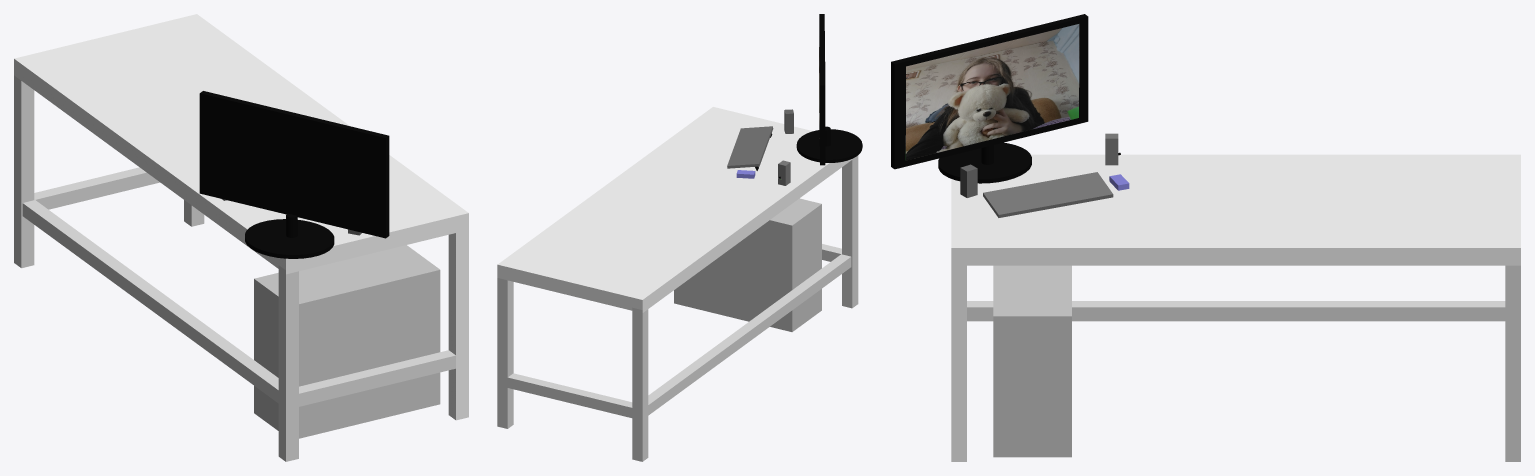
File: workplace.fbx
3 views of the same model, side by side, from view 1: azimuth 30°, elevation 25°; view 2: azimuth 150°, elevation 25°; view 3: azimuth 270°, elevation 25° (orthographic). The views are drawn at different scales.
Parts seen in each view (by area): view 1: Cube, Куб.014, Куб.007, Куб.006, Куб.001, Куб, Куб.003, Куб.005, Цилиндр.001, Куб.004; view 2: Cube, Куб.014, Куб.006, Куб.003, Куб.002, Куб.001, Куб.004, Цилиндр.001, Куб.008, Куб.007; view 3: Cube, Плоскость, Куб.014, Куб.006, Куб.007, Куб.008, Куб, Куб.002, Цилиндр.001.
Boxes of the visible parts, bbox=[...] form: Cube: bbox=[14, 14, 468, 274]; Куб.014: bbox=[254, 245, 440, 438]; Куб.007: bbox=[199, 91, 389, 238]; Куб.006: bbox=[22, 200, 278, 403]; Куб.001: bbox=[278, 265, 298, 461]; Куб: bbox=[448, 230, 468, 420]; Куб.003: bbox=[14, 75, 34, 268]; Куб.005: bbox=[299, 350, 455, 406]; Цилиндр.001: bbox=[245, 219, 334, 258]; Куб.004: bbox=[34, 167, 159, 209]; Cube: bbox=[497, 107, 852, 312]; Куб.014: bbox=[674, 198, 821, 331]; Куб.006: bbox=[648, 254, 851, 415]; Куб.003: bbox=[632, 307, 648, 461]; Куб.002: bbox=[497, 278, 513, 428]; Куб.001: bbox=[842, 155, 858, 308]; Куб.004: bbox=[507, 373, 632, 417]; Цилиндр.001: bbox=[796, 129, 862, 162]; Куб.008: bbox=[727, 126, 773, 168]; Куб.007: bbox=[819, 14, 825, 165]; Cube: bbox=[951, 154, 1520, 265]; Плоскость: bbox=[905, 24, 1079, 160]; Куб.014: bbox=[993, 265, 1071, 457]; Куб.006: bbox=[967, 301, 1505, 321]; Куб.007: bbox=[891, 14, 1088, 169]; Куб.008: bbox=[983, 172, 1113, 217]; Куб: bbox=[951, 265, 966, 461]; Куб.002: bbox=[1505, 265, 1520, 461]; Цилиндр.001: bbox=[938, 142, 1031, 183].
Size of the model in its own units: 168 by 255 by 425.
Materials: 22 (1 with a texture image).
